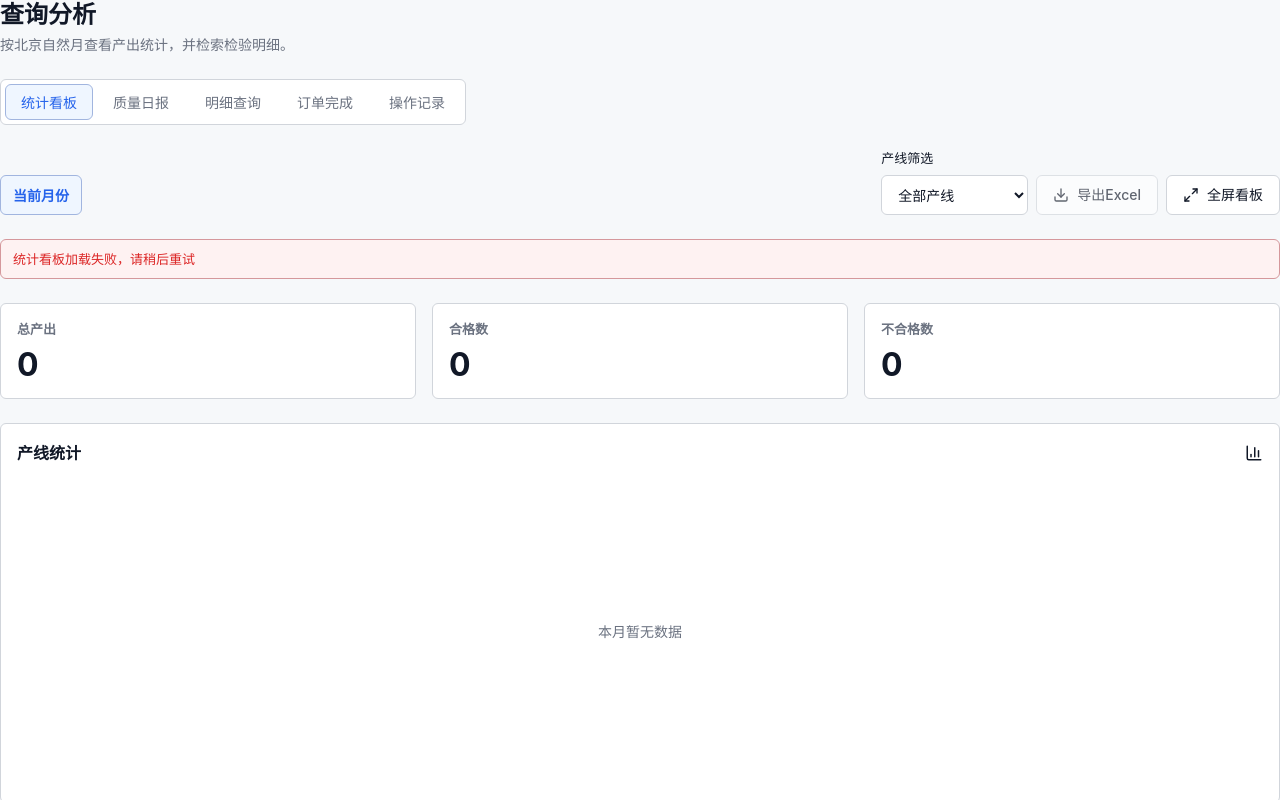
QueryAnalysisPage › shows independent API error alerts for dashboard and detail query
Expected: the text "统计看板加载失败，请稍后重试" is shown, [0,239,1279,279]
Click the tab "明细查询". click: (233, 102)
box: [189,84,277,120]
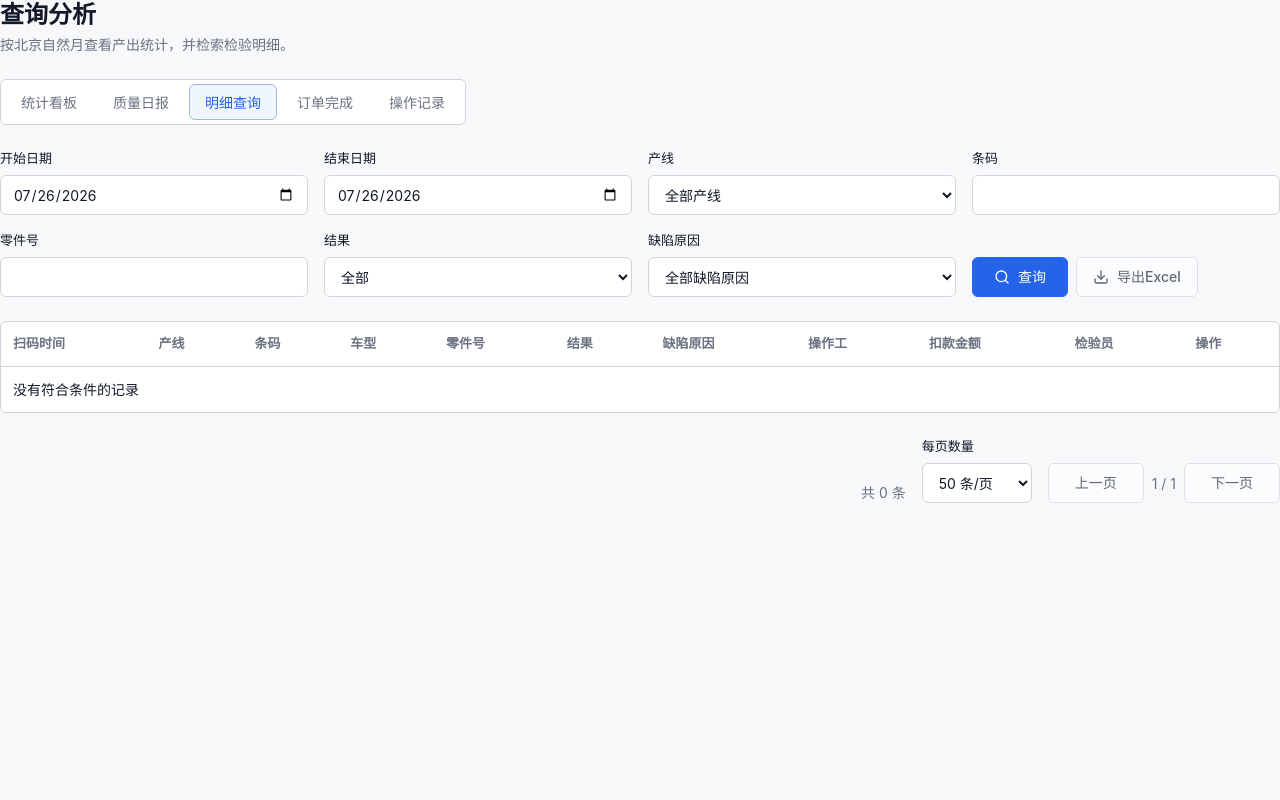
Click the button "查询". click: (1020, 277)
box: [972,257,1068,297]
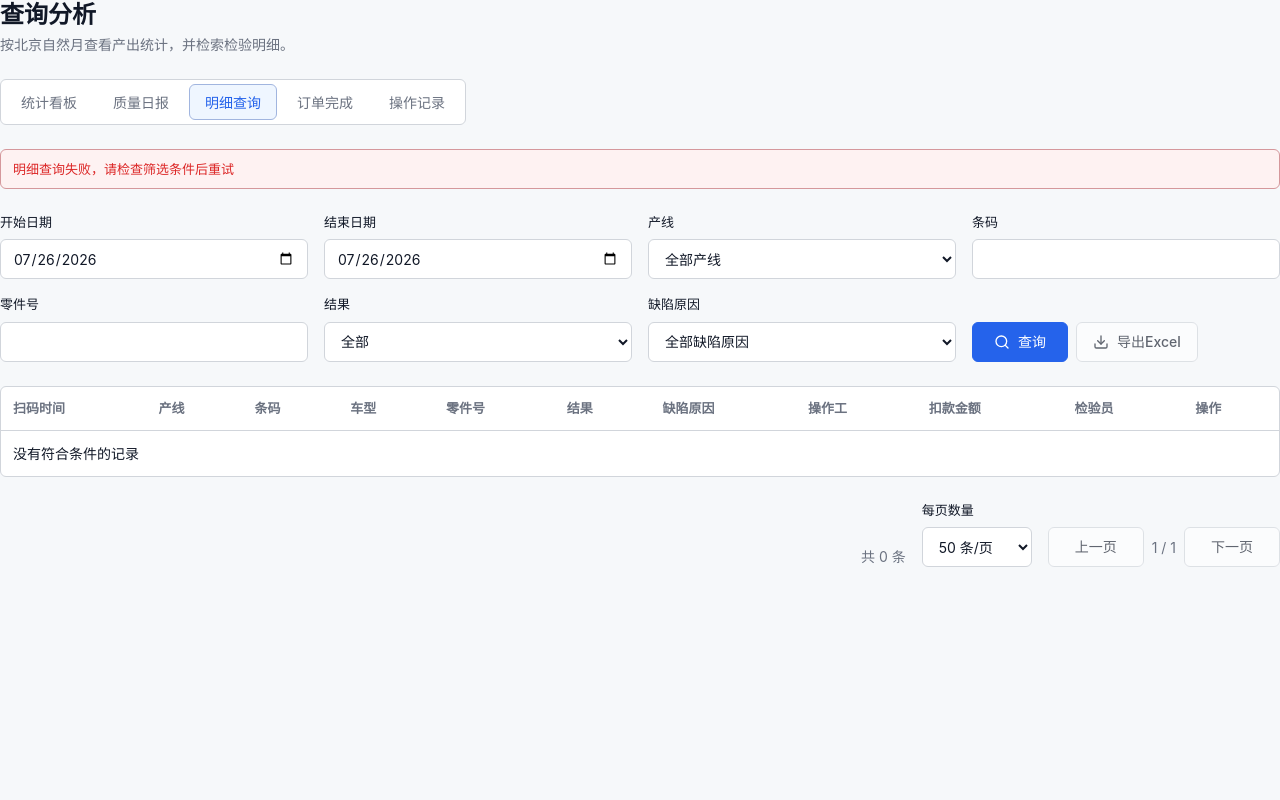
Expected: the text "明细查询失败，请检查筛选条件后重试" is shown, [0,149,1279,189]
